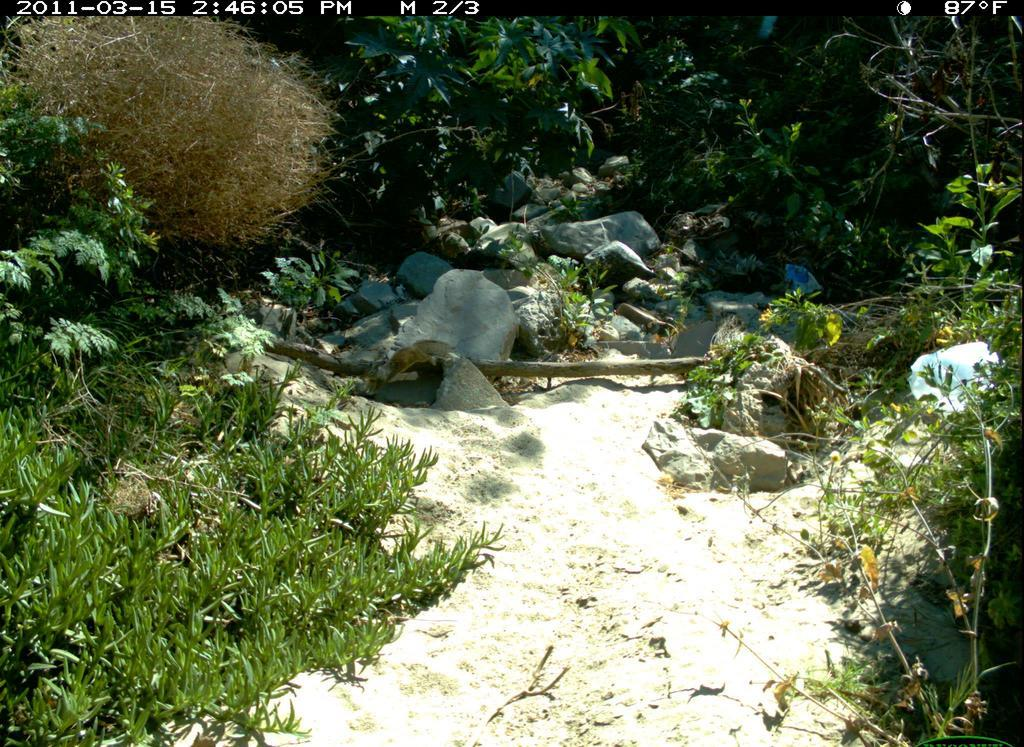squirrel: (365, 317, 477, 405)
